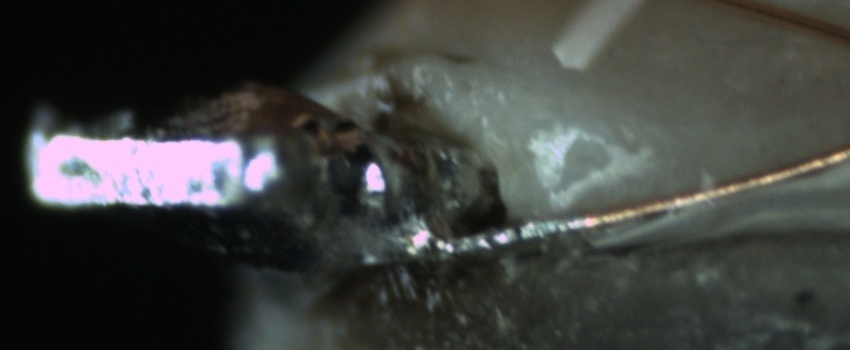TS: (427, 210, 589, 258)
TTCW: (427, 195, 661, 257)
